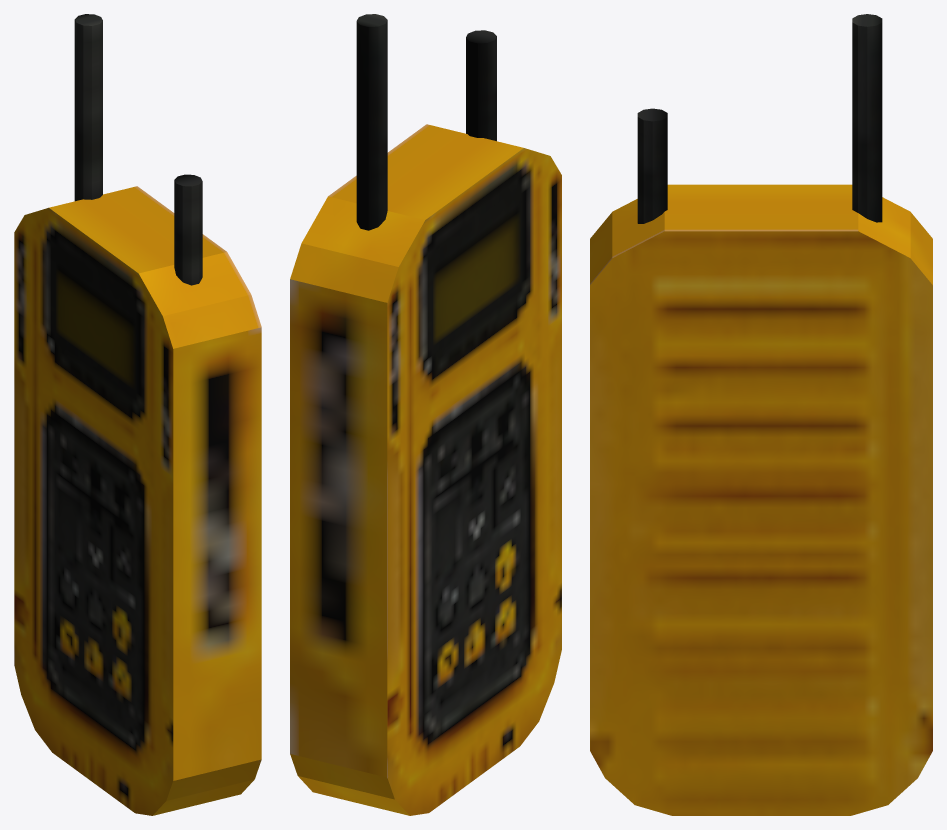
The model's file is The Tracker.fbx.
3 views of the same model, side by side, from view 1: azimuth 30°, elevation 25°; view 2: azimuth 150°, elevation 25°; view 3: azimuth 270°, elevation 25° (orthographic). The views are drawn at different scales.
Parts seen in each view (by area): view 1: cuboid, cylinder, cylinder.001; view 2: cuboid, cylinder, cylinder.001; view 3: cuboid, cylinder, cylinder.001.
Boxes of the visible parts, x1,y1,x2,y2 form: cuboid: (14, 186, 261, 815); cylinder: (74, 14, 102, 201); cylinder.001: (174, 174, 202, 285); cuboid: (290, 124, 561, 815); cylinder: (356, 14, 387, 230); cylinder.001: (466, 30, 496, 141); cuboid: (590, 184, 932, 815); cylinder: (852, 14, 882, 222); cylinder.001: (637, 108, 667, 223).
Size of the model in its own units: 71.88 by 179 by 23.13.
1 material, 1 textured.
